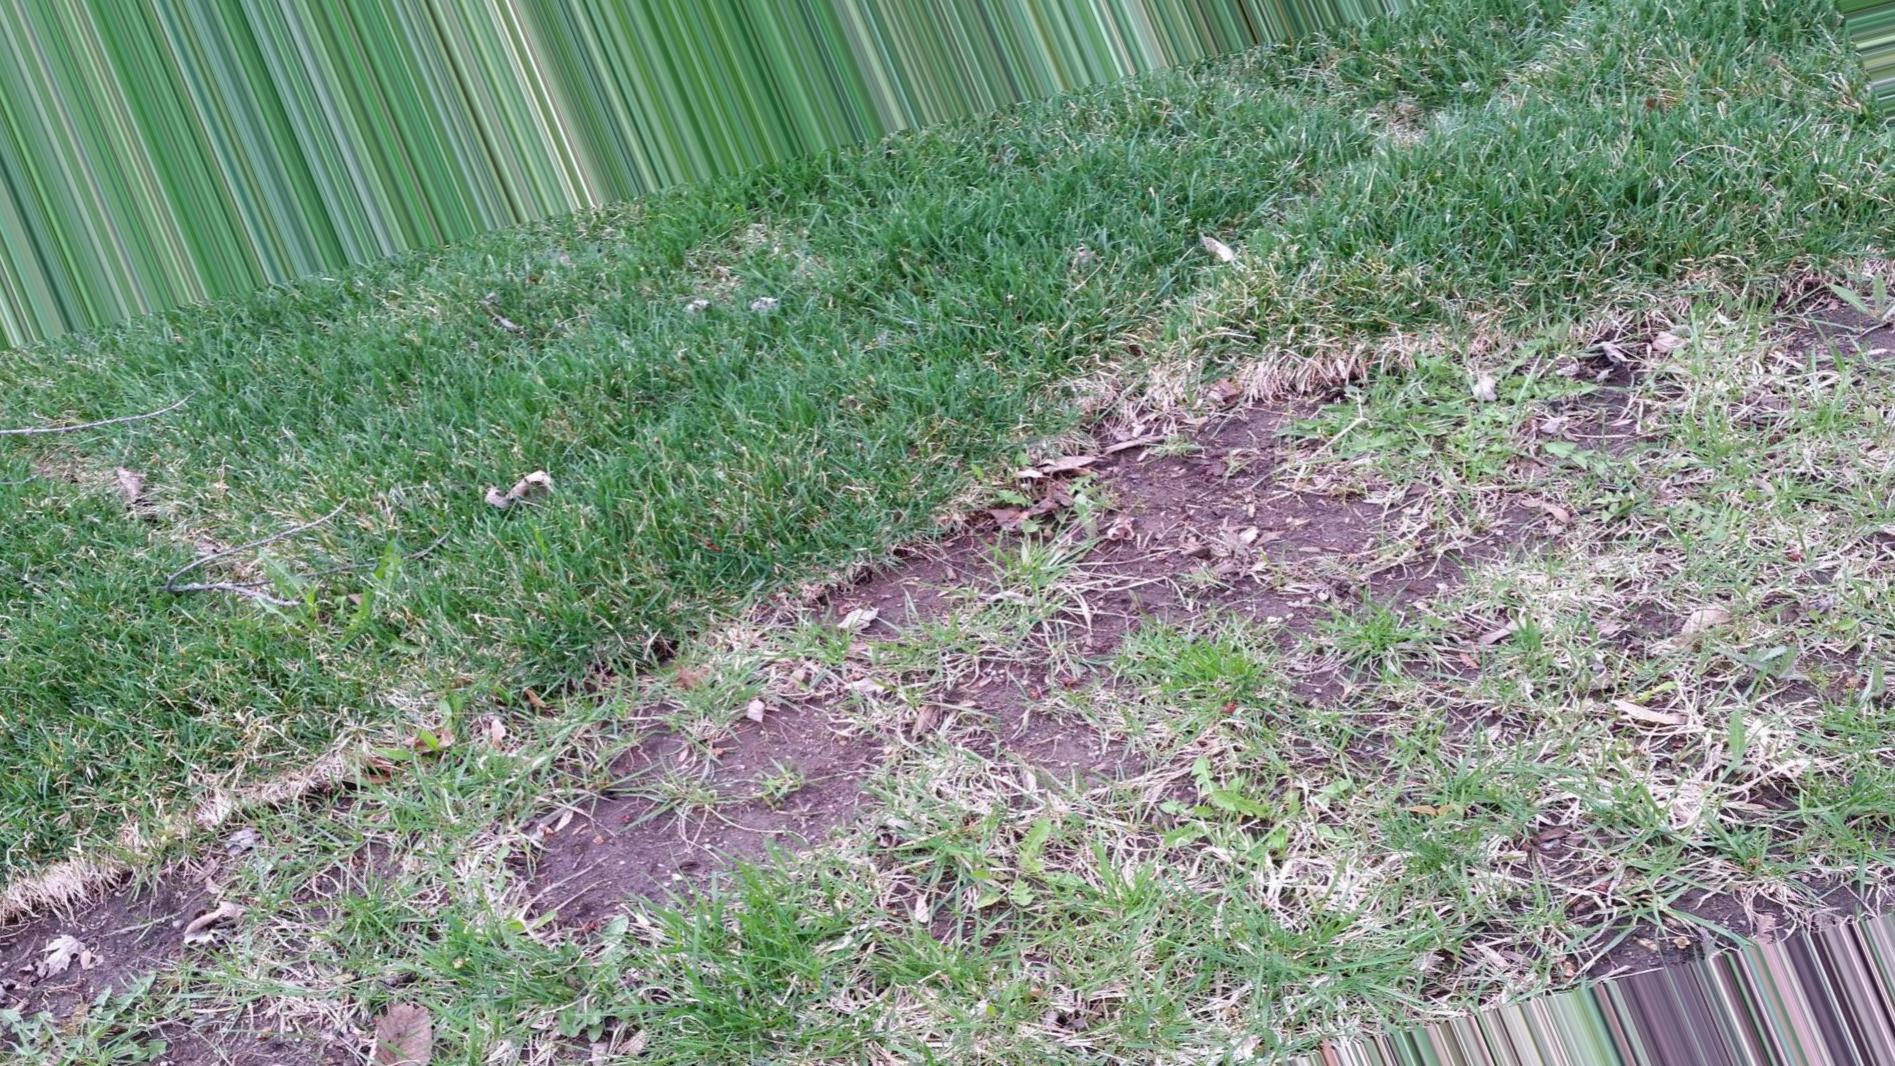patch: (1050, 407, 1432, 668), (528, 704, 907, 914), (61, 864, 426, 1057), (936, 664, 1214, 832)
